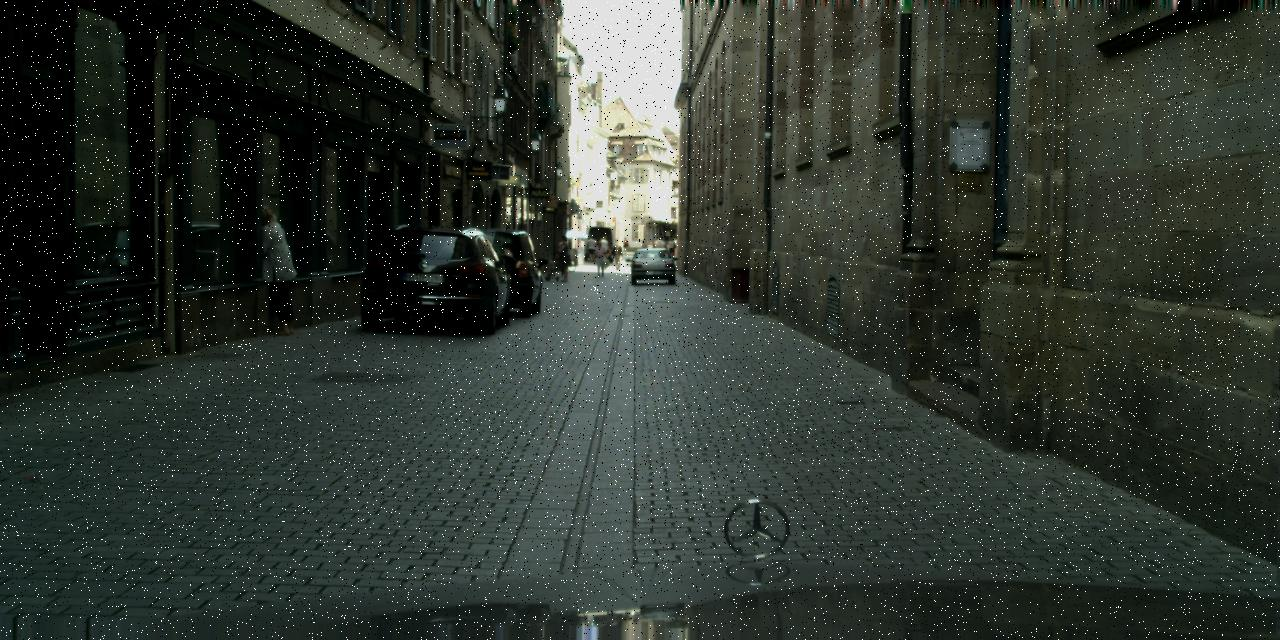ped: (249, 205, 302, 334), (554, 234, 574, 280), (592, 242, 606, 276), (585, 234, 596, 262), (611, 242, 622, 269), (599, 235, 609, 259), (667, 238, 674, 257), (622, 236, 628, 253)
